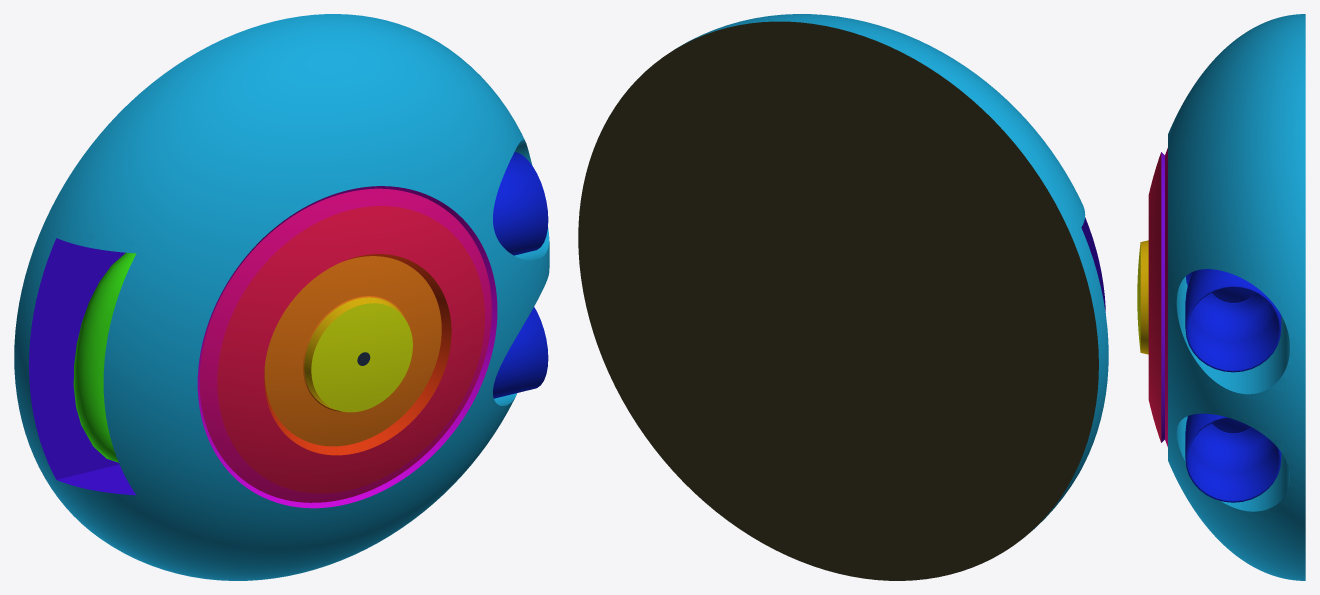
3 renders of one model, left to right at view 1: azimuth 30°, elevation 25°; view 2: azimuth 150°, elevation 25°; view 3: azimuth 270°, elevation 25°, orthographic. The views are drawn at different scales.
Parts seen in each view (by area): view 1: booster; view 2: booster; view 3: booster.
Boxes of the visible parts, x1,y1,x2,y2 form: booster: [14, 14, 549, 580]; booster: [578, 14, 1108, 580]; booster: [1137, 14, 1305, 580].
Bounding box in the file's own units: 0.2 × 0.2 × 0.0594.
